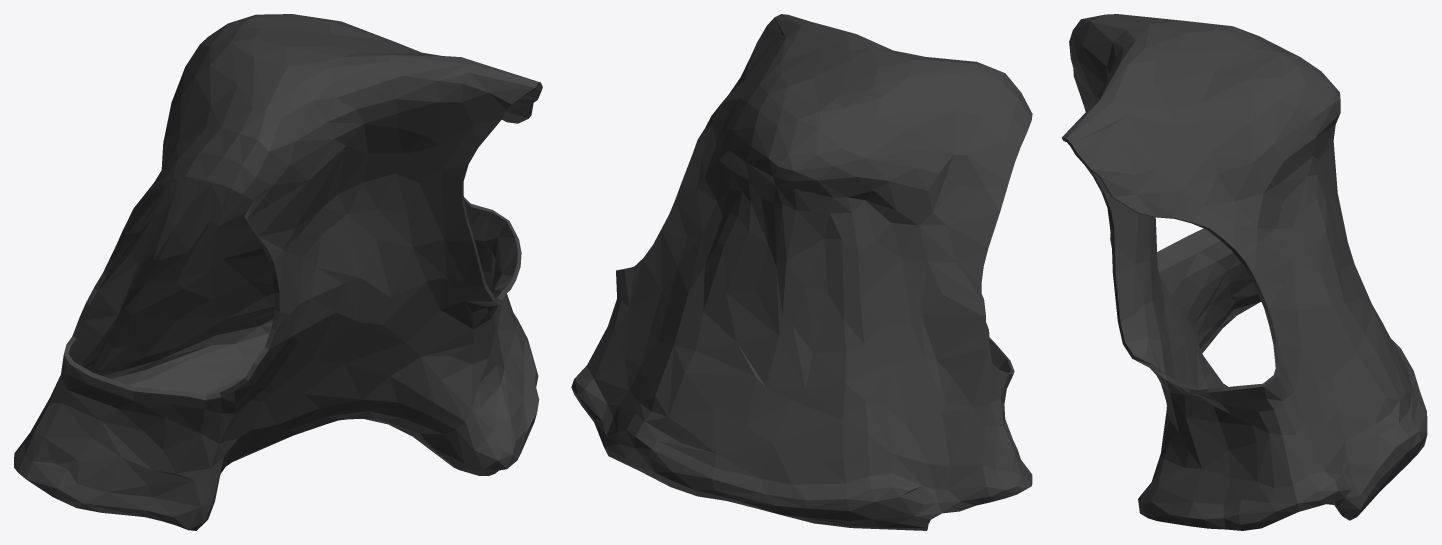
File: c7_body.glb
3 renders of one model, left to right at view 1: azimuth 30°, elevation 25°; view 2: azimuth 150°, elevation 25°; view 3: azimuth 270°, elevation 25°, orthographic. The views are drawn at different scales.
Visible parts, largest first — view 1: c7_body; view 2: c7_body; view 3: c7_body.
Part boxes in pixels (x1=…): c7_body: x1=14, y1=14, x2=542, y2=530; c7_body: x1=571, y1=14, x2=1032, y2=530; c7_body: x1=1061, y1=14, x2=1427, y2=530.
Bounding box in the file's own units: 27.35 × 23.47 × 19.06.
1 material, 1 textured.
